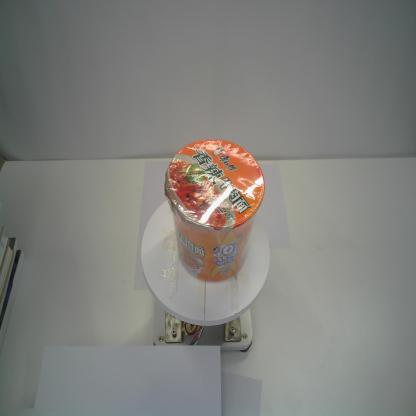Instant Noodles: (162, 138, 266, 284)
